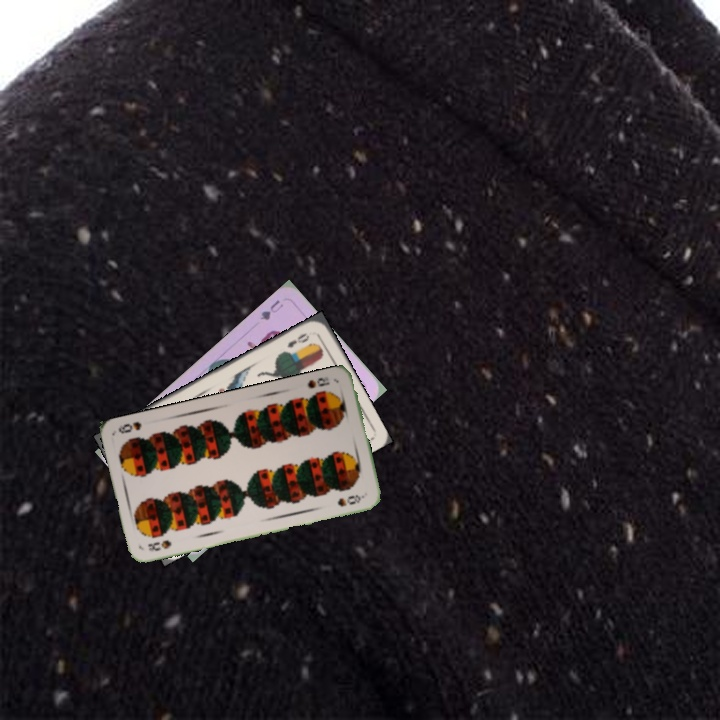EO: (283, 329, 312, 350)
GU: (256, 296, 286, 323)
S8: (144, 536, 174, 554), (303, 373, 332, 391)
